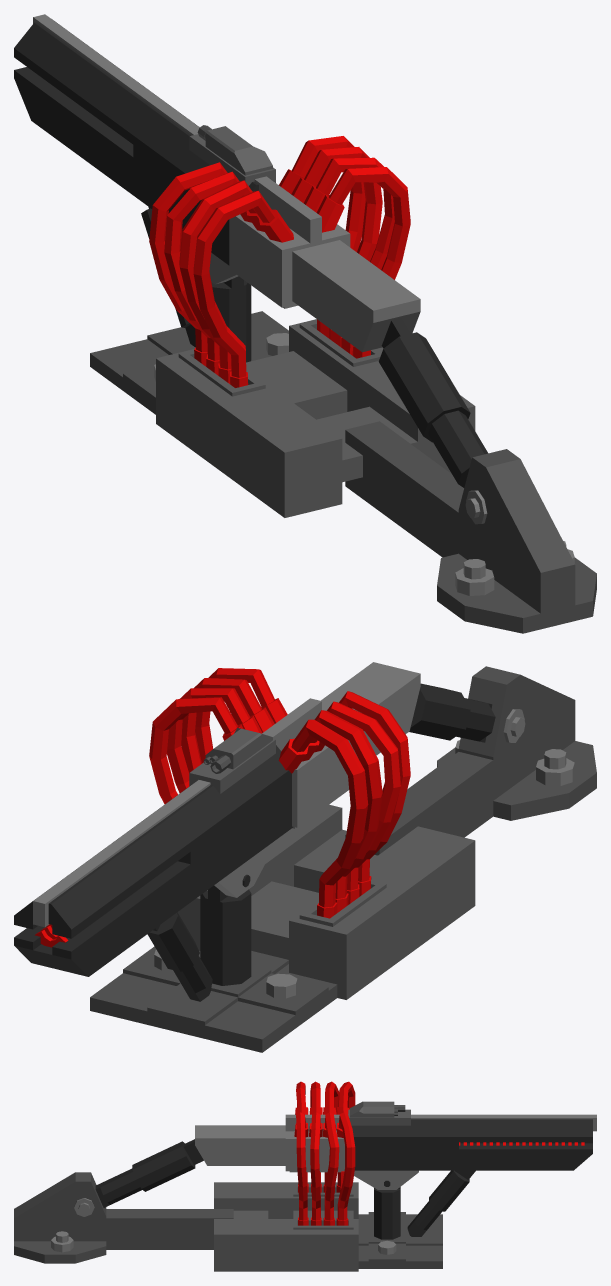
Rendered from Rail Canon.fbx.
3 views of the same model, one above another, from view 1: azimuth 30°, elevation 25°; view 2: azimuth 150°, elevation 25°; view 3: azimuth 270°, elevation 25° (orthographic). The views are drawn at different scales.
Parts seen in each view (by area): view 1: Plane.004, Plane.038, NurbsPath, Cube.329, Cube.288, Cylinder.174, Cube.333, Cylinder.183; view 2: Plane.004, Plane.038, Cube.288, NurbsPath, Cylinder.174, Cube.329, Cube.333, Cylinder.183, Cube.283; view 3: Plane.004, Cube.288, Plane.038, NurbsPath, Cube.329, Cylinder.174, Cube.333, Cylinder.183, Cube.283, Plane.037.
Boxes of the visible parts, x1,y1,x2,y2 form: Plane.004: [90, 311, 596, 633]; Plane.038: [156, 319, 475, 517]; NurbsPath: [149, 136, 410, 387]; Cube.329: [33, 14, 420, 352]; Cube.288: [14, 19, 273, 265]; Cylinder.174: [141, 207, 488, 487]; Cube.333: [189, 126, 275, 185]; Cylinder.183: [154, 333, 574, 595]; Plane.004: [90, 666, 596, 1052]; Plane.038: [177, 804, 475, 999]; Cube.288: [14, 745, 293, 976]; NurbsPath: [149, 668, 410, 918]; Cylinder.174: [147, 683, 495, 1001]; Cube.329: [33, 662, 420, 927]; Cube.333: [189, 728, 275, 793]; Cylinder.183: [154, 709, 574, 998]; Cube.283: [207, 838, 278, 897]; Plane.004: [14, 1172, 442, 1268]; Cube.288: [345, 1119, 592, 1170]; Plane.038: [214, 1182, 358, 1271]; NurbsPath: [294, 1081, 355, 1225]; Cube.329: [195, 1114, 596, 1172]; Cylinder.174: [95, 1139, 475, 1239]; Cube.333: [348, 1101, 410, 1125]; Cylinder.183: [51, 1198, 396, 1254]; Cube.283: [354, 1170, 418, 1189]; Plane.037: [459, 1142, 584, 1145].
Size of the model in its own units: 770 by 861 by 3128.
